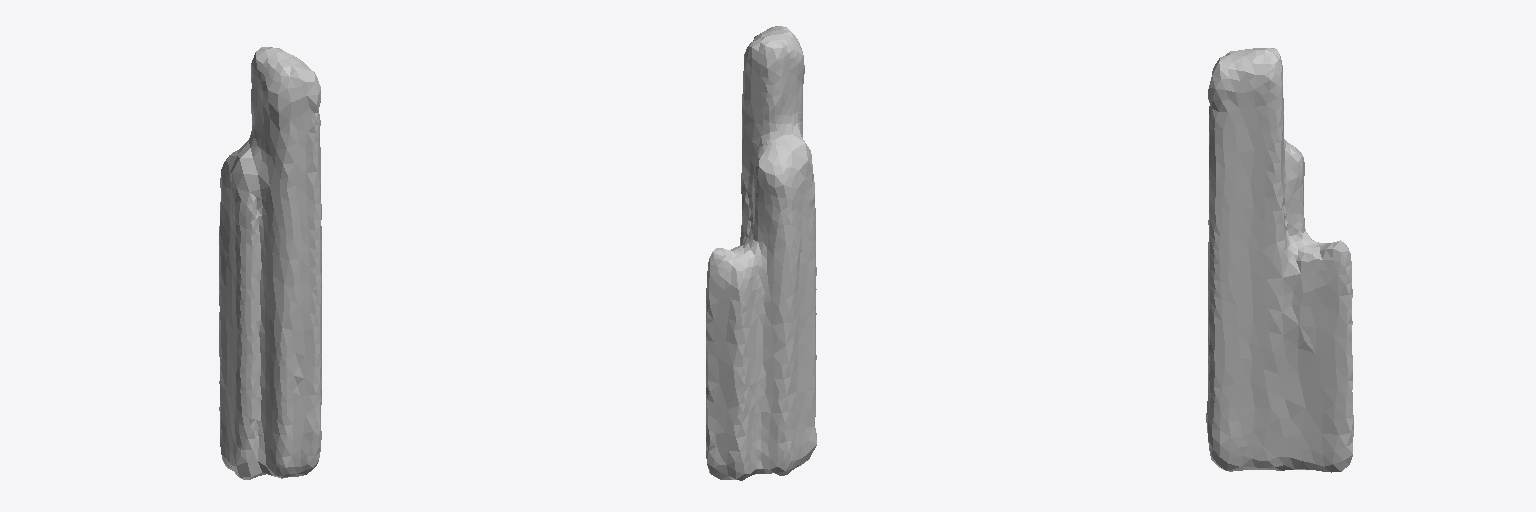
The model's file is Rock04_D.obj.
3 renders of one model, left to right at view 1: azimuth 30°, elevation 25°; view 2: azimuth 150°, elevation 25°; view 3: azimuth 270°, elevation 25°, orthographic.
Parts seen in each view (by area): view 1: Rock04_D; view 2: Rock04_D; view 3: Rock04_D.
Boxes of the visible parts, box(x1,y1,x2,y2) form: Rock04_D: box(219, 47, 321, 479); Rock04_D: box(706, 26, 816, 480); Rock04_D: box(1206, 48, 1353, 472).
Bounding box in the file's own units: 0.5526 × 3.21 × 1.02.